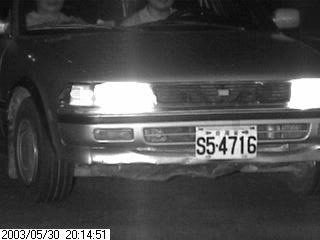plate: (194, 124, 259, 161)
